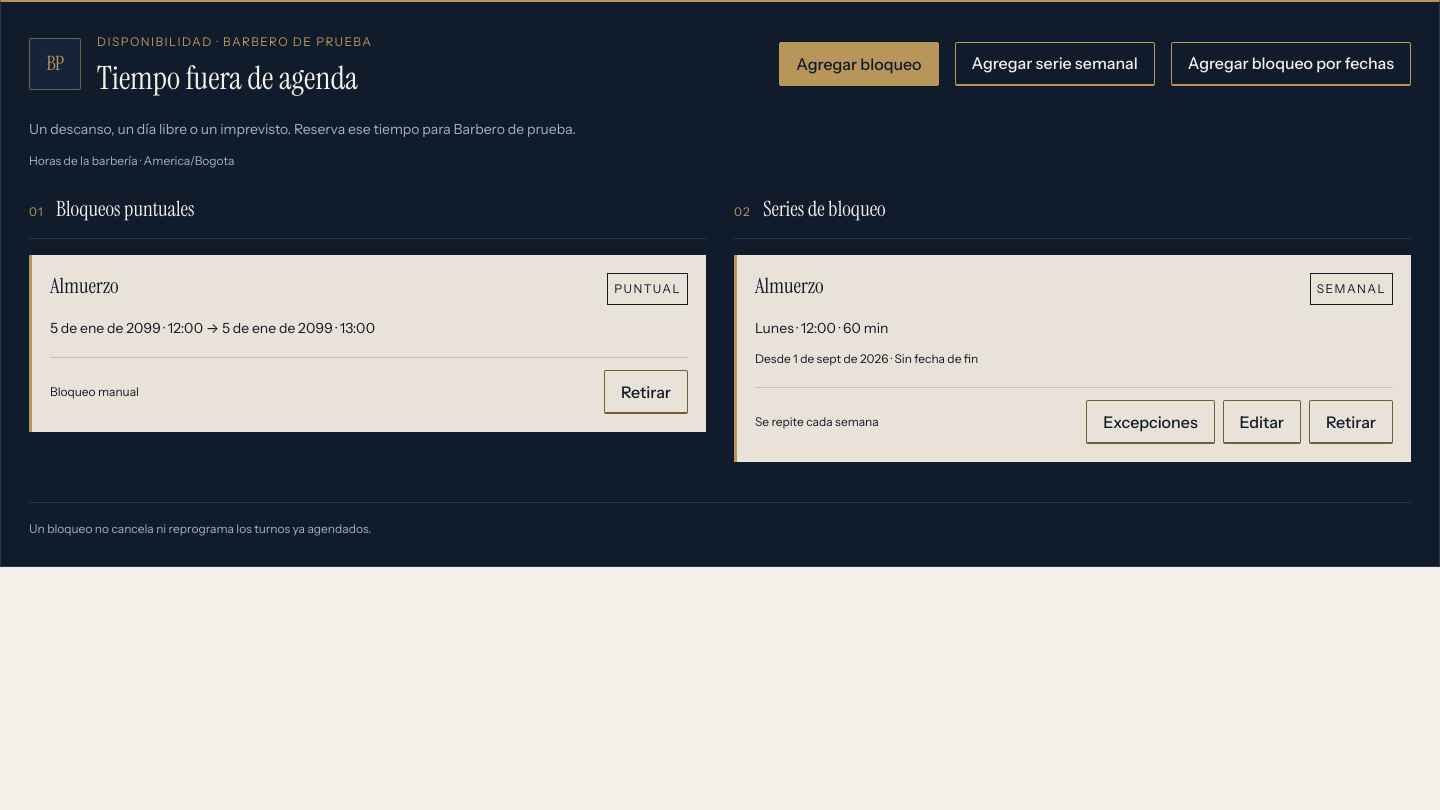
Test: BarberBlocksPanel · avisos emergentes (DEC-095) › treats an already-gone block as retired, with no toast and no error
Click the button "Retirar" in the row of "Bloqueo manual".
click(646, 392)  # box [604,370,688,414]
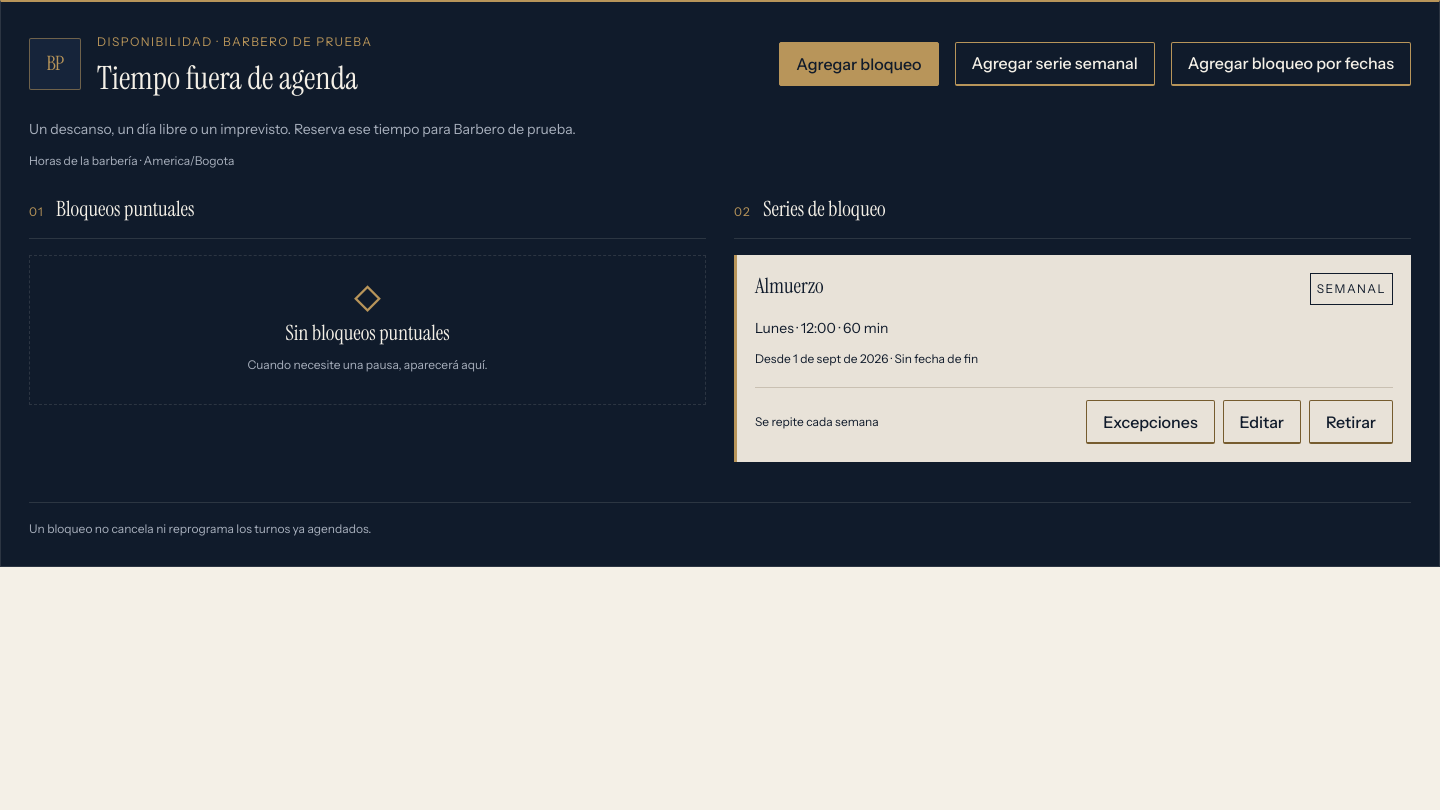
expect the text "Sin bloqueos puntuales" is shown: met, box [285,321,450,345]
